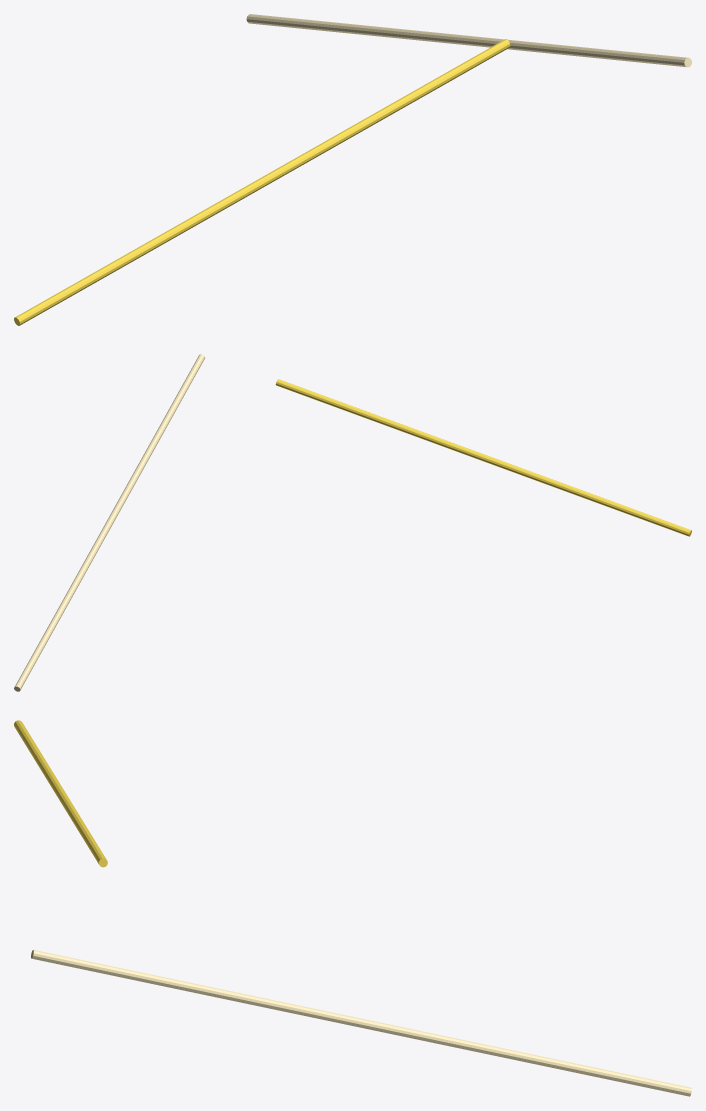
The model's file is tile_184.glb.
3 renders of one model, top to bottom at view 1: azimuth 30°, elevation 25°; view 2: azimuth 150°, elevation 25°; view 3: azimuth 270°, elevation 25°, orthographic. The views are drawn at different scales.
Size of the model in its own units: 20.19 by 6.35 by 18.37.
